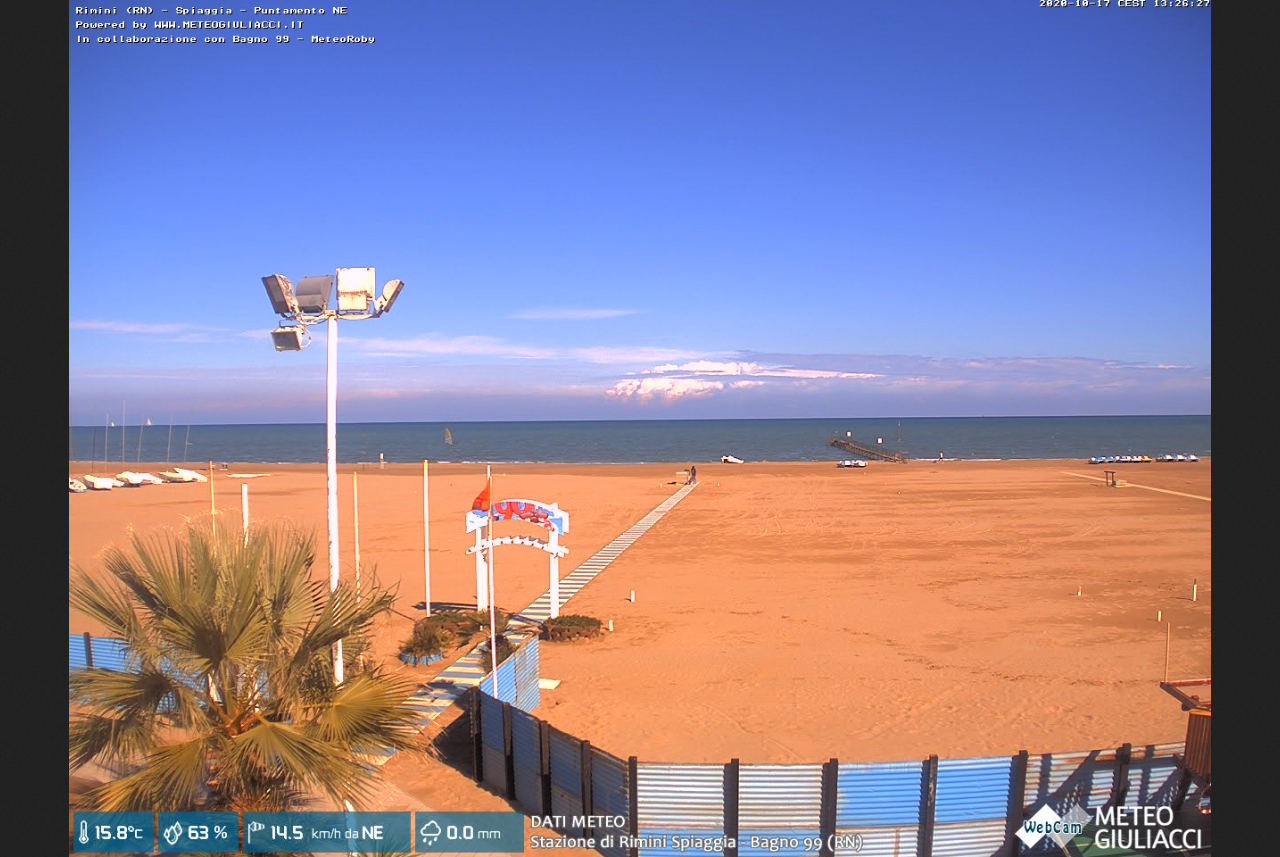maybe: (468, 468, 490, 523)
